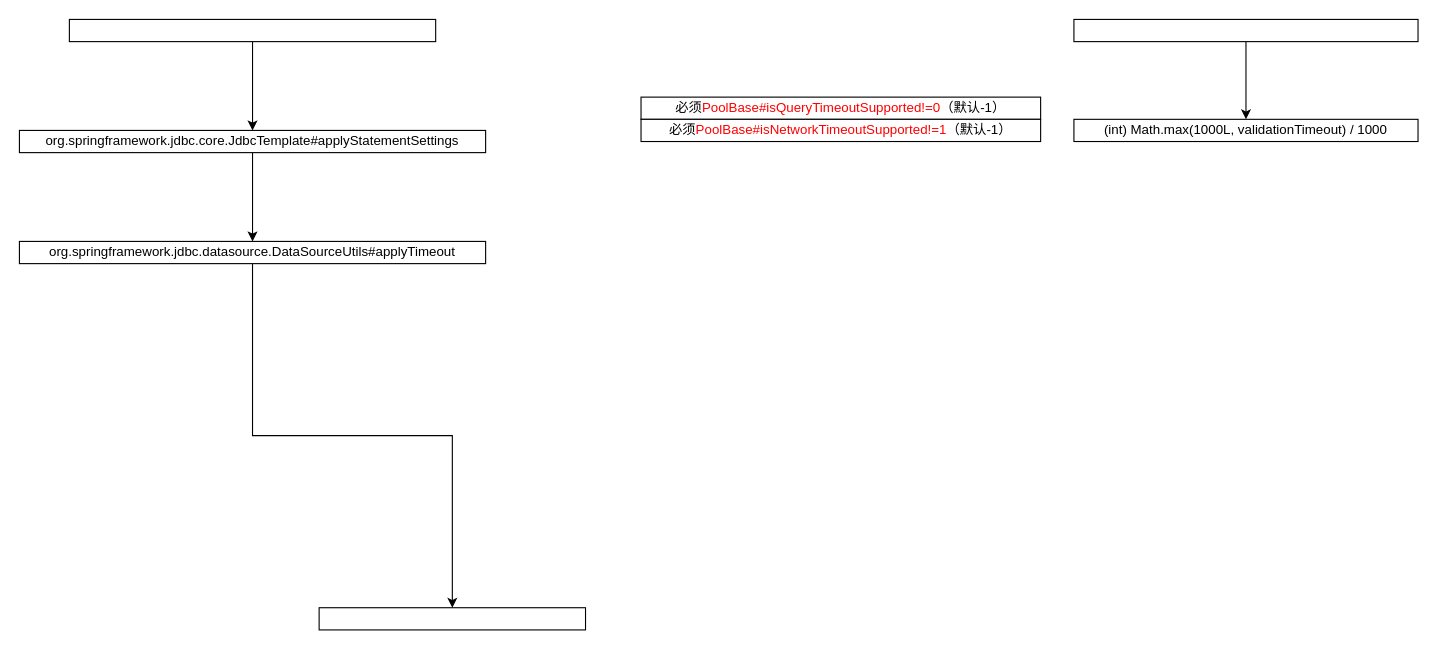
This 1437x649 diagram has some shape labels left out. The box of each missing label's shape, as (x1, y1, x2, y2) in pixels:
com.zaxxer.hikari.HikariConfig#validationTimeout: (1073, 18, 1418, 42)
java.sql.Statement#setQueryTimeout: (318, 607, 586, 630)
org.springframework.jdbc.core.JdbcTemplate#execute: (68, 18, 436, 42)
